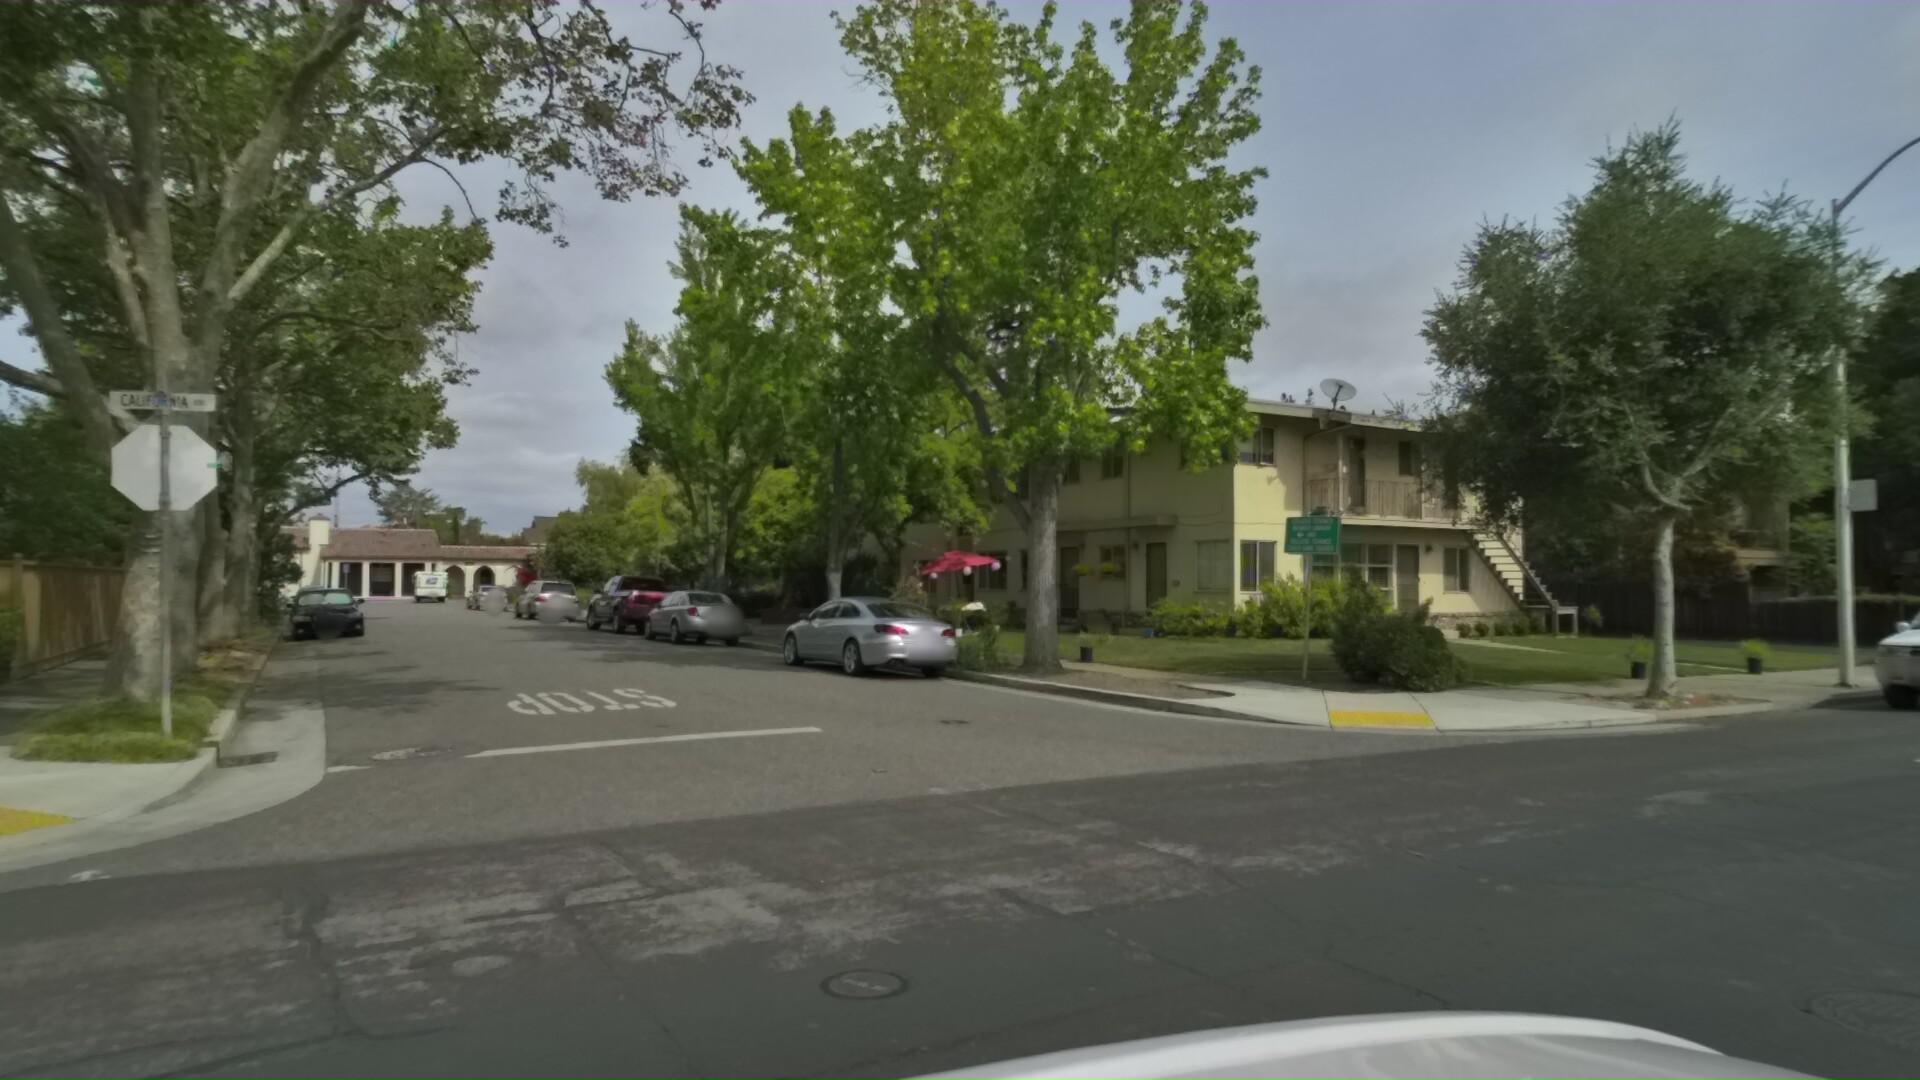car: (753, 593, 961, 690), (1829, 574, 1920, 732), (568, 570, 684, 640), (624, 588, 738, 651), (276, 584, 352, 642), (502, 578, 578, 625), (458, 583, 505, 615)
truck: (402, 568, 450, 603)
